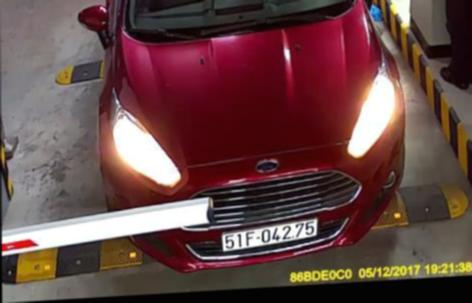License_Plate: (215, 214, 328, 255)
